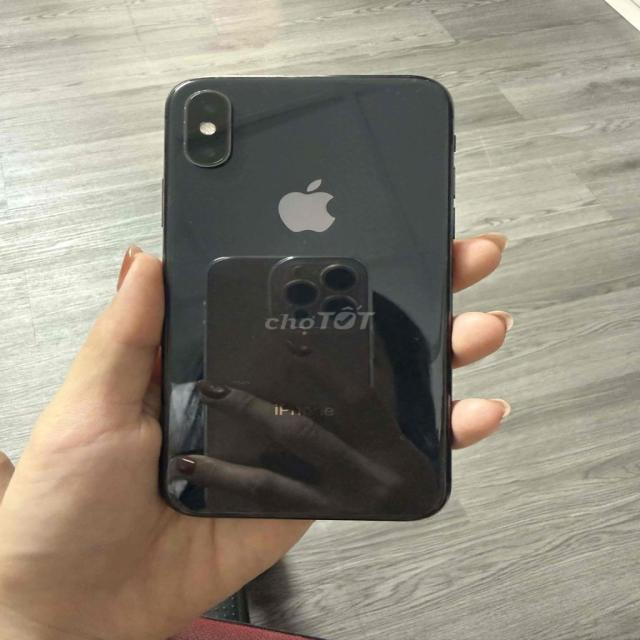scratch: (172, 97, 190, 155), (173, 209, 204, 230), (406, 328, 424, 356), (292, 232, 318, 246)
